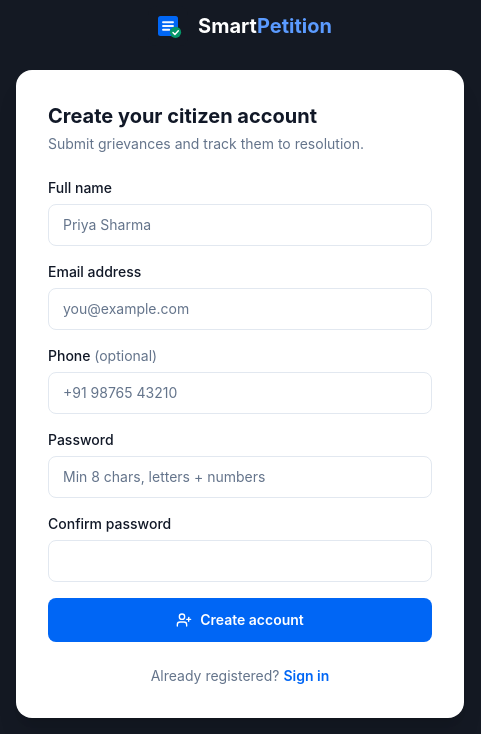
Test: registration form validation (client-side, zod) › rejects mismatched confirmation
In the field labelled "Full name": (240, 225) x1=48 y1=204 x2=432 y2=246, type "Test User"
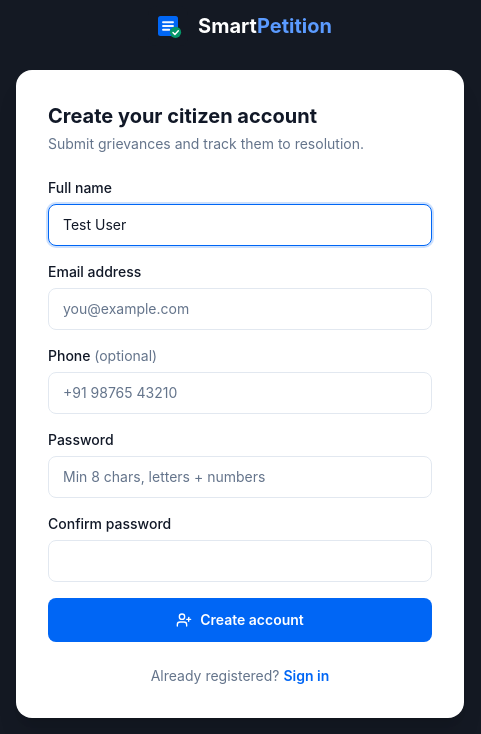
In the field labelled "Email address": (240, 309) x1=48 y1=288 x2=432 y2=330, type "test@example.com"
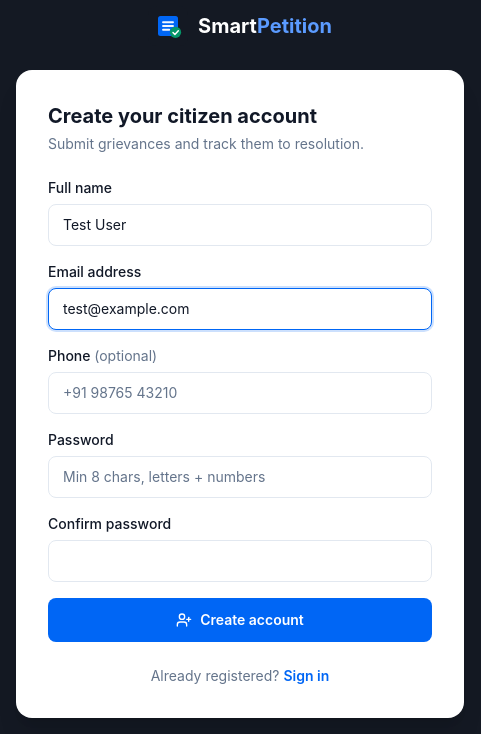
In the password field labelled "Password": (240, 477) x1=48 y1=456 x2=432 y2=498, type "Passw0rd123"
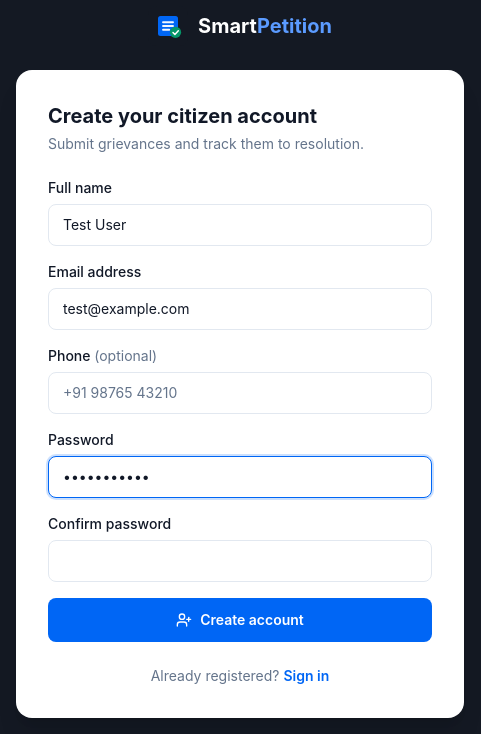
In the password field labelled "Confirm password": (240, 561) x1=48 y1=540 x2=432 y2=582, type "Passw0rd124"
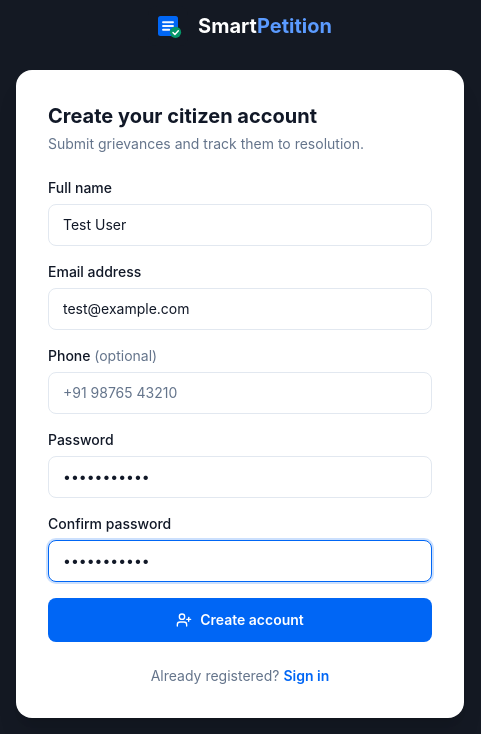
Click the button "Create account": (240, 620) x1=48 y1=598 x2=432 y2=642
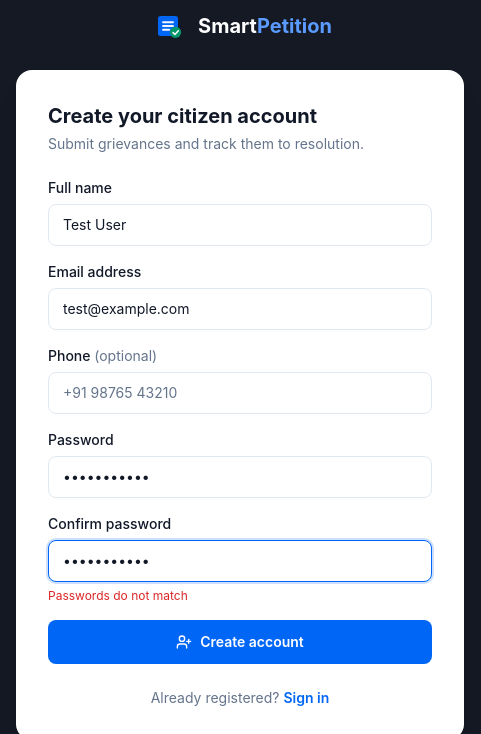
Check: the text "Passwords do not match" is shown, box x1=48 y1=588 x2=188 y2=603
